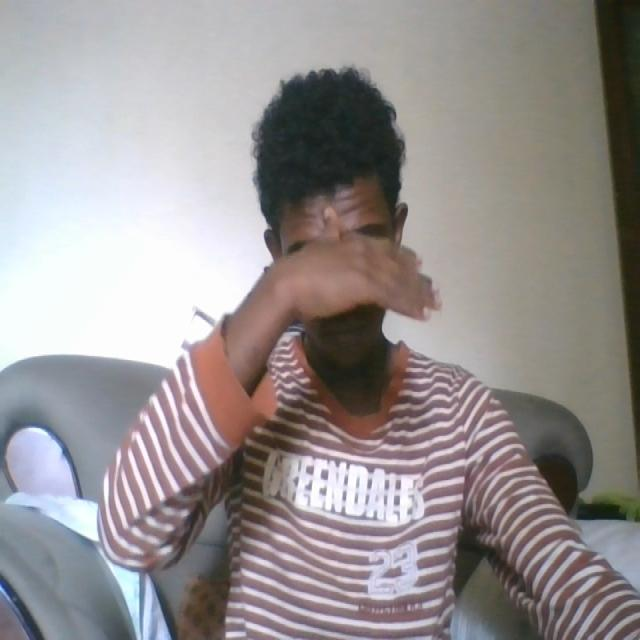abat: (260, 198, 449, 335)
